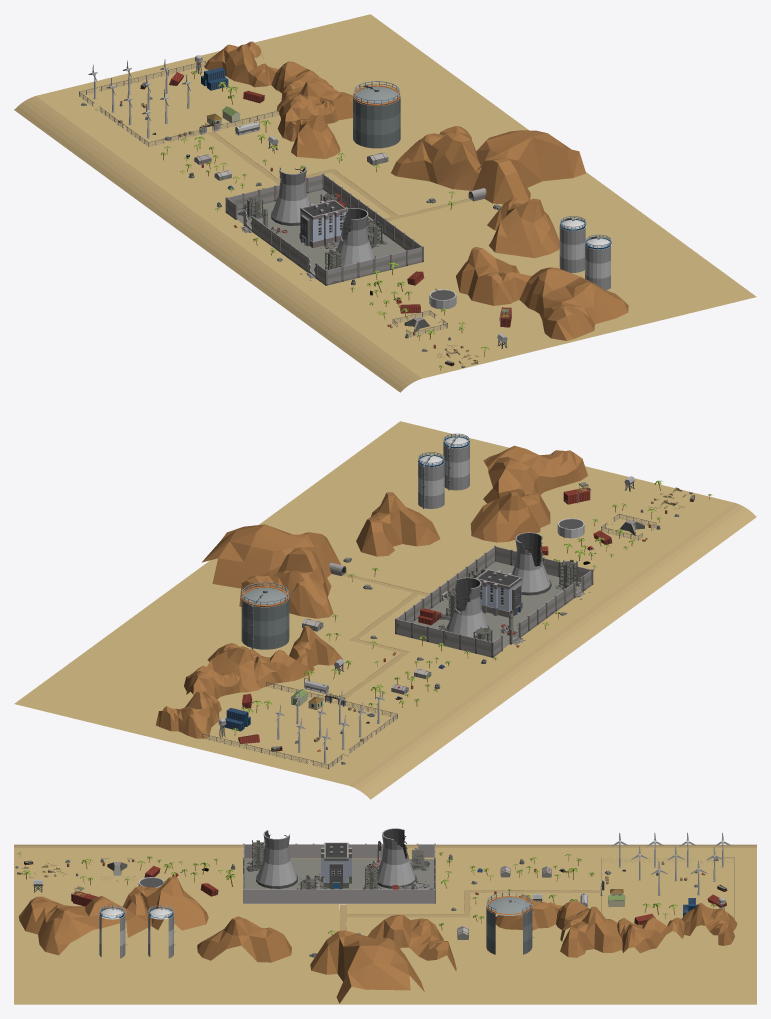
The model's file is _lvl_desert_bg_3.glb.
The picture shows the model from 3 angles, top to bottom: view 1: azimuth 30°, elevation 25°; view 2: azimuth 150°, elevation 25°; view 3: azimuth 270°, elevation 25°; orthographic projection. The views are drawn at different scales.
Parts seen in each view (by area): view 1: bg_ground_far_3, bg_ground_3, SM_Env_Hills_Pack_3, bg_near_plane_desert, SA_CityWall_Full_2, Prop_FuelSilo_01_Big (1), Building_Power_Main_02, Road_Full_3, SA_Bld_CoolingTowerLarge_Damaged_02, SA_Bld_CoolingTowerLarge_Damaged_01, Prop_FuelSilo_02_Medium (4), Prop_FuelSilo_02_Medium (3) (+1 smaller); view 2: bg_ground_far_3, bg_ground_3, SM_Env_Hills_Pack_3, bg_near_plane_desert, SA_CityWall_Full_2, Prop_FuelSilo_01_Big (1), SA_Bld_CoolingTowerLarge_Damaged_01, Building_Power_Main_02, SA_Bld_CoolingTowerLarge_Damaged_02, Road_Full_3, Prop_FuelSilo_02_Medium (4), Prop_FuelSilo_02_Medium (3) (+1 smaller); view 3: bg_ground_far_3, bg_ground_3, SM_Env_Hills_Pack_3, SA_CityWall_Full_2, bg_near_plane_desert, SA_Bld_CoolingTowerLarge_Damaged_02, Prop_FuelSilo_01_Big (1), SA_Bld_CoolingTowerLarge_Damaged_01, Road_Full_3, Building_Power_Main_02, Prop_FuelSilo_02_Medium (4), Prop_FuelSilo_02_Medium (3) (+3 smaller).
Boxes of the visible parts, box(x1,y1,x2,y2) form: bg_ground_far_3: box(156, 14, 756, 349); bg_ground_3: box(36, 66, 541, 378); SM_Env_Hills_Pack_3: box(204, 41, 628, 340); bg_near_plane_desert: box(14, 96, 421, 392); SA_CityWall_Full_2: box(225, 173, 423, 285); Prop_FuelSilo_01_Big (1): box(353, 81, 400, 148); Building_Power_Main_02: box(299, 199, 346, 247); Road_Full_3: box(207, 131, 472, 223); SA_Bld_CoolingTowerLarge_Damaged_02: box(271, 166, 309, 225); SA_Bld_CoolingTowerLarge_Damaged_01: box(337, 208, 375, 266); Prop_FuelSilo_02_Medium (4): box(559, 216, 586, 272); Prop_FuelSilo_02_Medium (3): box(585, 234, 611, 290); bg_ground_far_3: box(14, 421, 614, 756); bg_ground_3: box(229, 473, 734, 785); SM_Env_Hills_Pack_3: box(156, 445, 587, 738); bg_near_plane_desert: box(349, 503, 756, 799); SA_CityWall_Full_2: box(395, 545, 593, 657); Prop_FuelSilo_01_Big (1): box(241, 582, 289, 649); SA_Bld_CoolingTowerLarge_Damaged_01: box(512, 532, 551, 595); Building_Power_Main_02: box(475, 569, 522, 617); SA_Bld_CoolingTowerLarge_Damaged_02: box(445, 577, 489, 637); Road_Full_3: box(332, 573, 444, 703); Prop_FuelSilo_02_Medium (4): box(418, 452, 444, 508); Prop_FuelSilo_02_Medium (3): box(443, 433, 469, 490); bg_ground_far_3: box(14, 904, 756, 1004); bg_ground_3: box(14, 847, 756, 903); SM_Env_Hills_Pack_3: box(18, 876, 737, 1003); SA_CityWall_Full_2: box(243, 843, 435, 903); bg_near_plane_desert: box(14, 844, 756, 847); SA_Bld_CoolingTowerLarge_Damaged_02: box(378, 828, 416, 888); Prop_FuelSilo_01_Big (1): box(486, 892, 534, 954); SA_Bld_CoolingTowerLarge_Damaged_01: box(256, 830, 297, 888); Road_Full_3: box(339, 890, 601, 930); Building_Power_Main_02: box(321, 842, 351, 889); Prop_FuelSilo_02_Medium (4): box(148, 905, 176, 958); Prop_FuelSilo_02_Medium (3): box(99, 905, 127, 958).
Size of the model in its own units: 240 by 37.3 by 450.
Materials: 1 (1 with a texture image).
